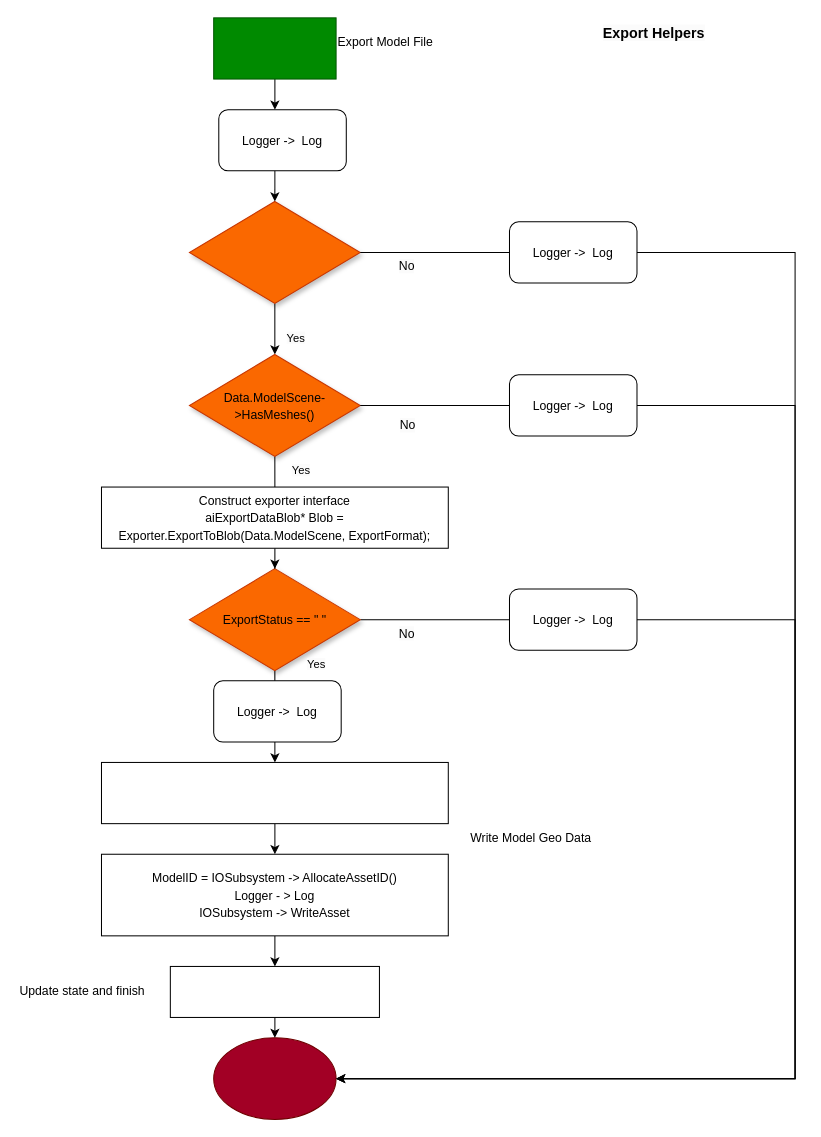
This 821x1137 diagram has some shape labels left out. The shapes that lost their labels are listed below. From the top down, each one's centre as x and y in pixels, then its label:
[274,48]: Start
[275,253]: is it a model scene
[274,792]: Create unique pointer (IOData) Propogate unique pointer with data
[274,991]: Data.ModelAssetID = ModelID Return true
[274,1078]: End
